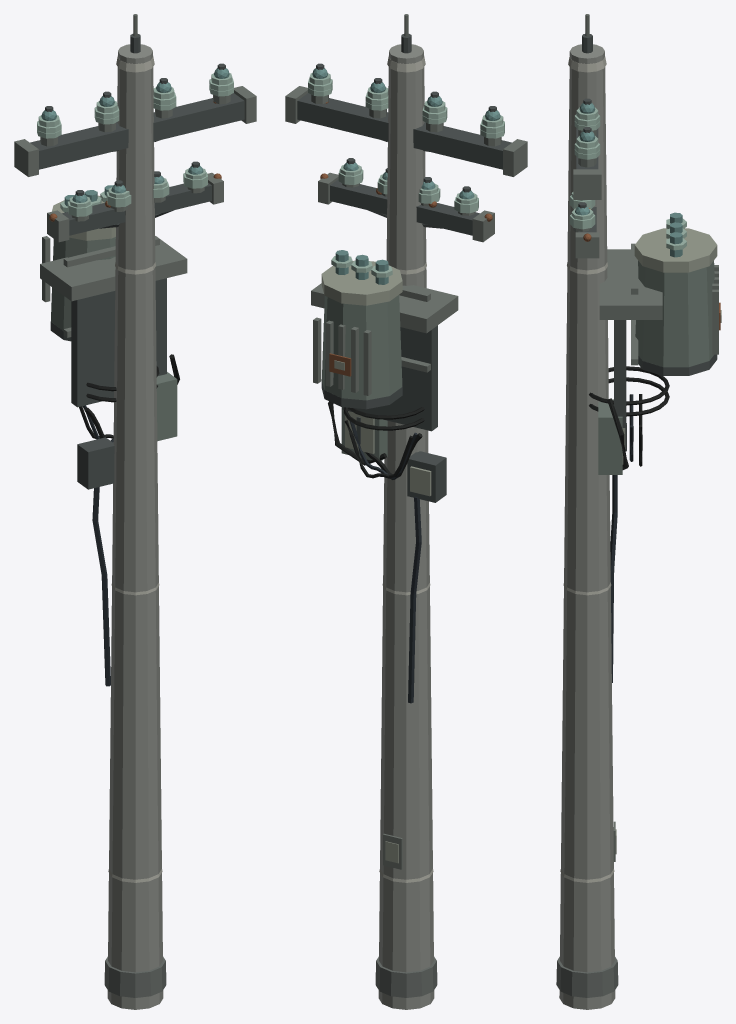
Rendered from PH_UtilityPole_SpaghettiWires.obj.
3 views of the same model, side by side, from view 1: azimuth 30°, elevation 25°; view 2: azimuth 150°, elevation 25°; view 3: azimuth 270°, elevation 25° (orthographic).
Parts seen in each view (by area): view 1: PhilippinePole_Merged; view 2: PhilippinePole_Merged; view 3: PhilippinePole_Merged.
Part boxes in pixels (left/top/right/bottom): PhilippinePole_Merged: left=14, top=14, right=256, bottom=1009; PhilippinePole_Merged: left=285, top=14, right=527, bottom=1009; PhilippinePole_Merged: left=556, top=14, right=721, bottom=1009.
Size of the model in its own units: 2.17 by 8.93 by 1.36.
Materials: 1 (1 with a texture image).
